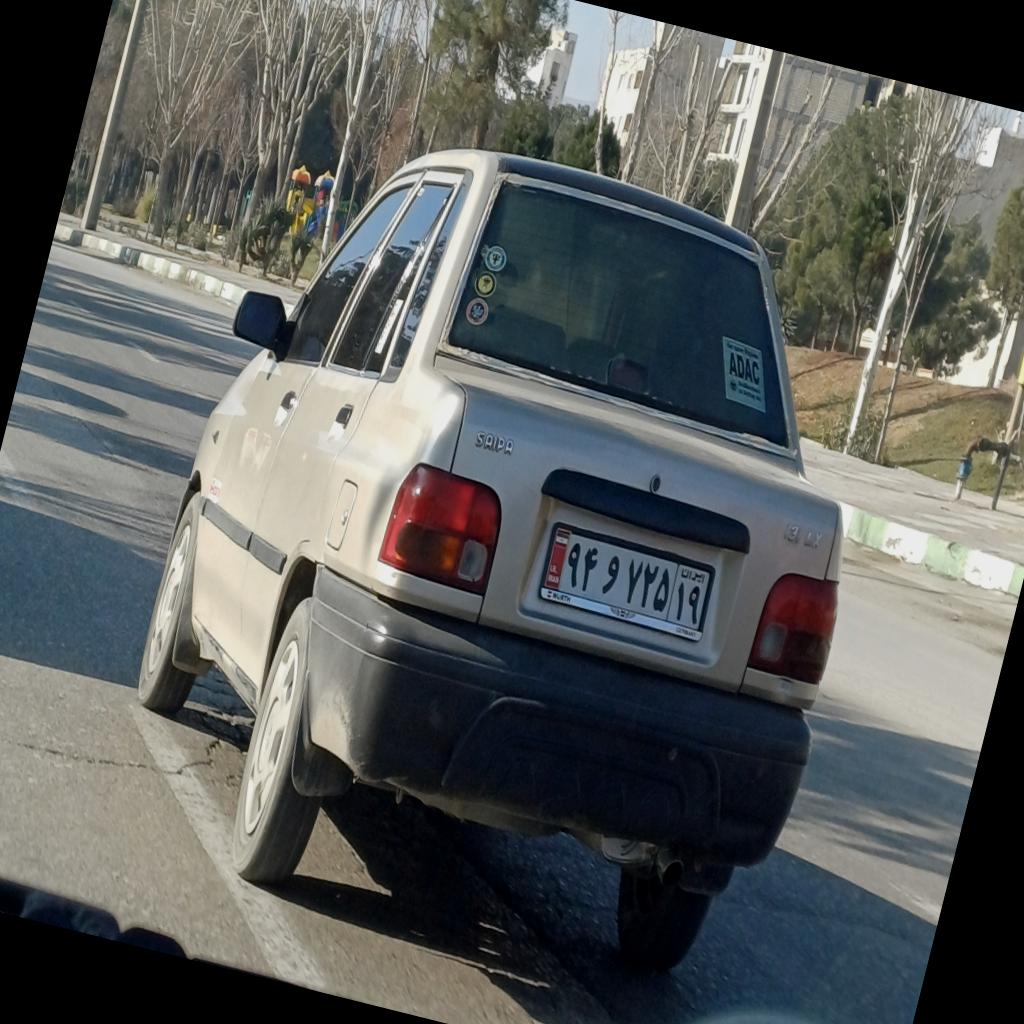Plates: (540, 528, 714, 634)
